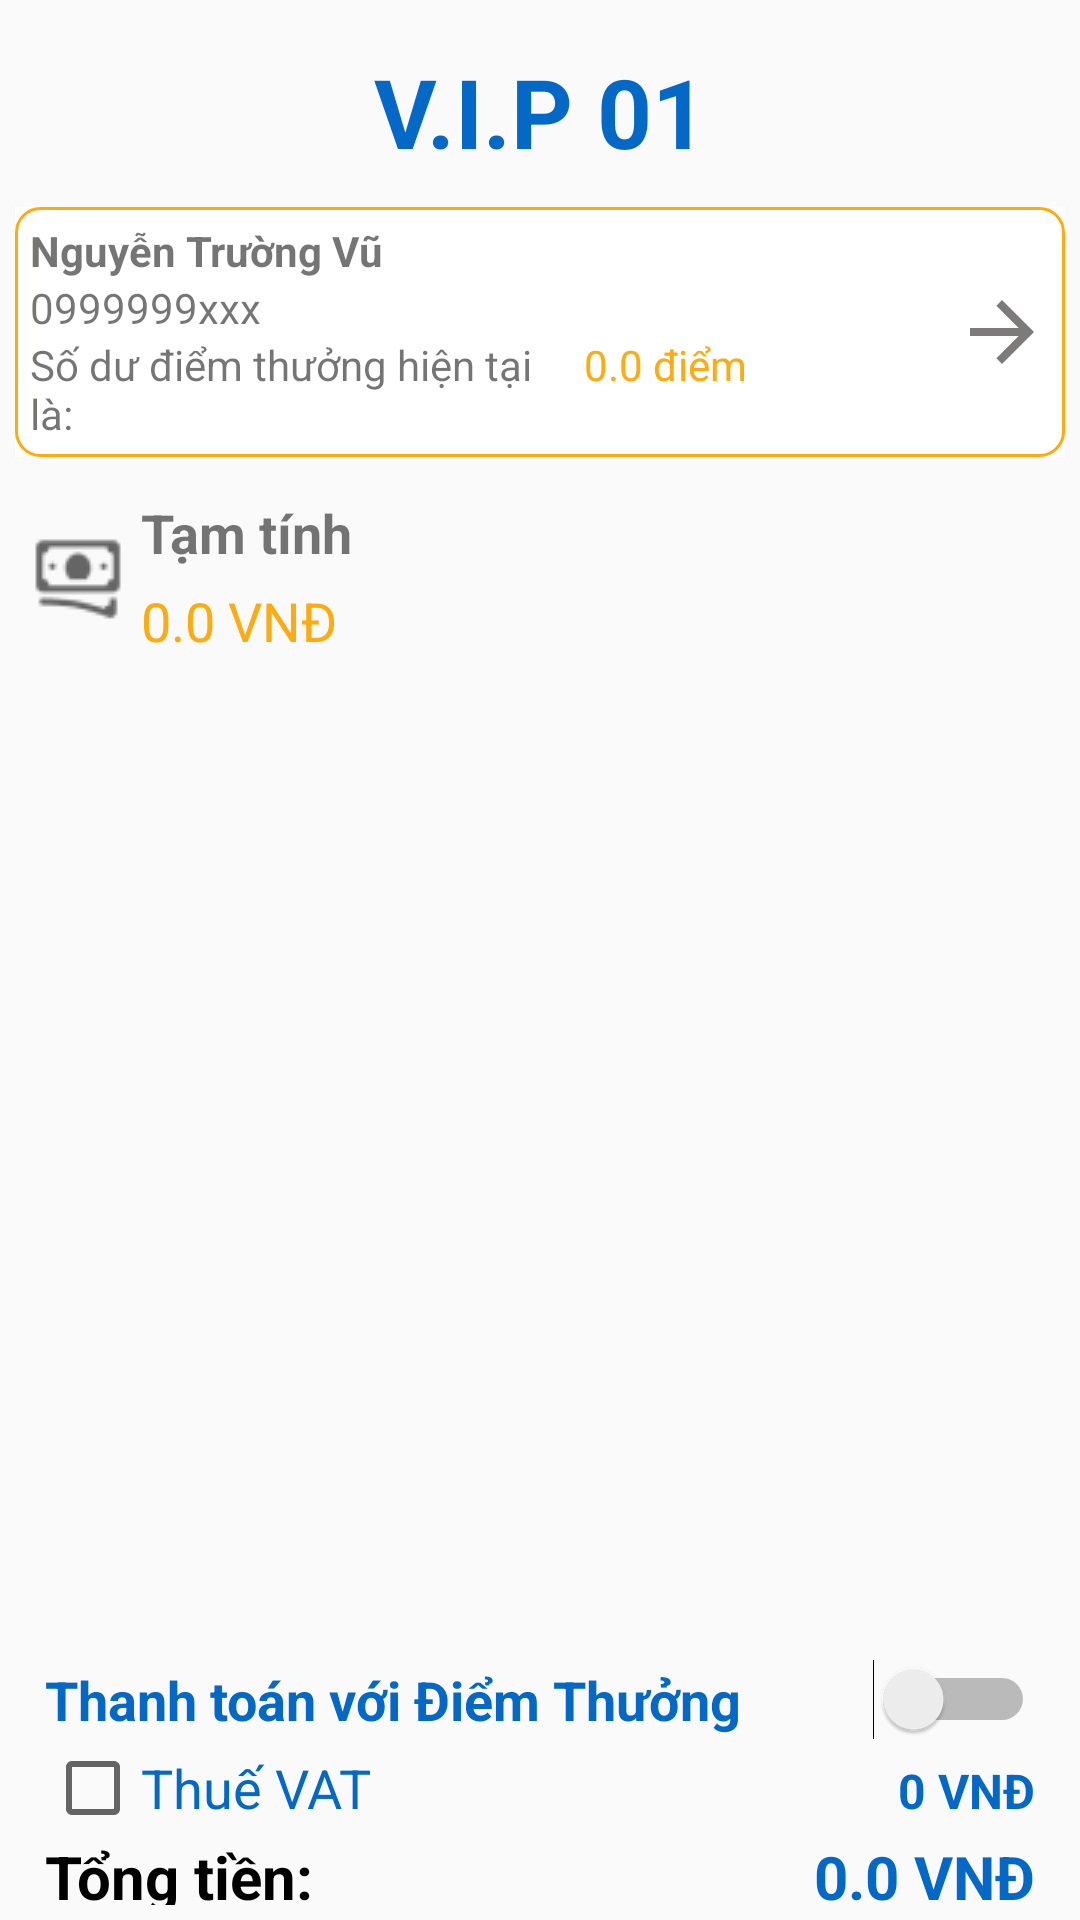

Icons on this 1080 x 1920 Android screen, each with its box as (x1, y1, x2, y2):
cash: (35, 539, 121, 619)
